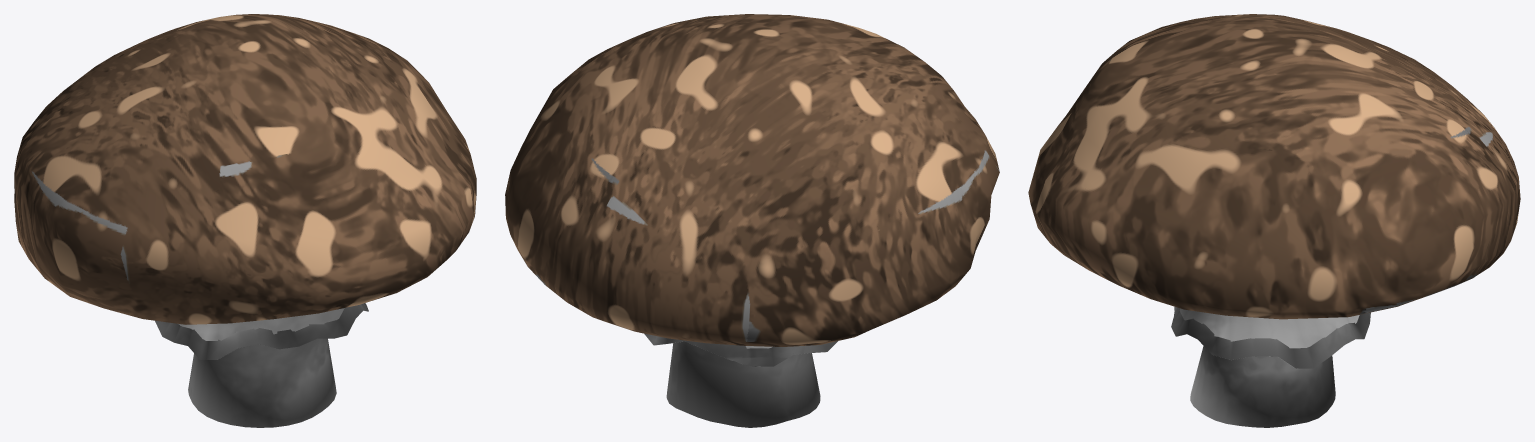
File: BoingDead.fbx
3 renders of one model, left to right at view 1: azimuth 30°, elevation 25°; view 2: azimuth 150°, elevation 25°; view 3: azimuth 270°, elevation 25°, orthographic. The views are drawn at different scales.
Visible parts, largest first — view 1: Boing; view 2: Boing; view 3: Boing.
Part boxes in pixels (box(x1,y1,x2,y2)): Boing: box(14, 14, 476, 427); Boing: box(505, 14, 999, 427); Boing: box(1028, 14, 1520, 427).
Size of the model in its own units: 837 by 702 by 873.
Materials: 1 (1 with a texture image).
